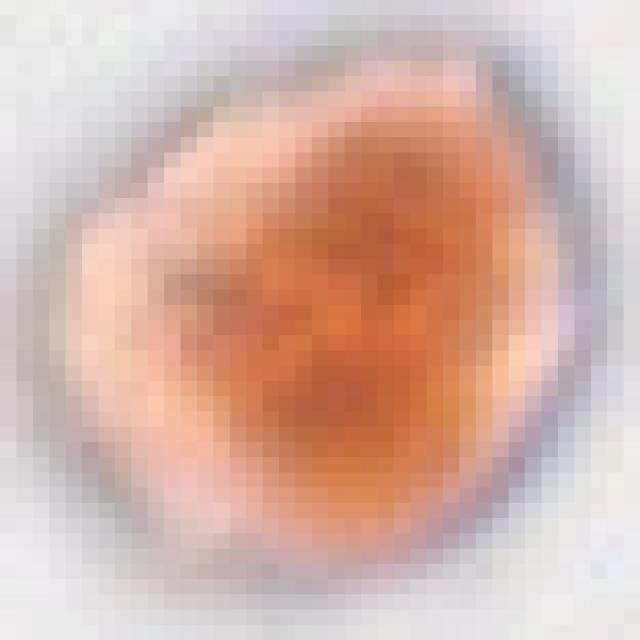nucleus: (173, 102, 576, 546)
